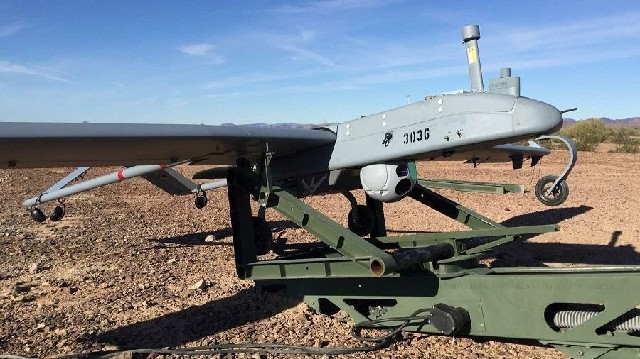maybay_khongnguoilai: (16, 84, 580, 219)
